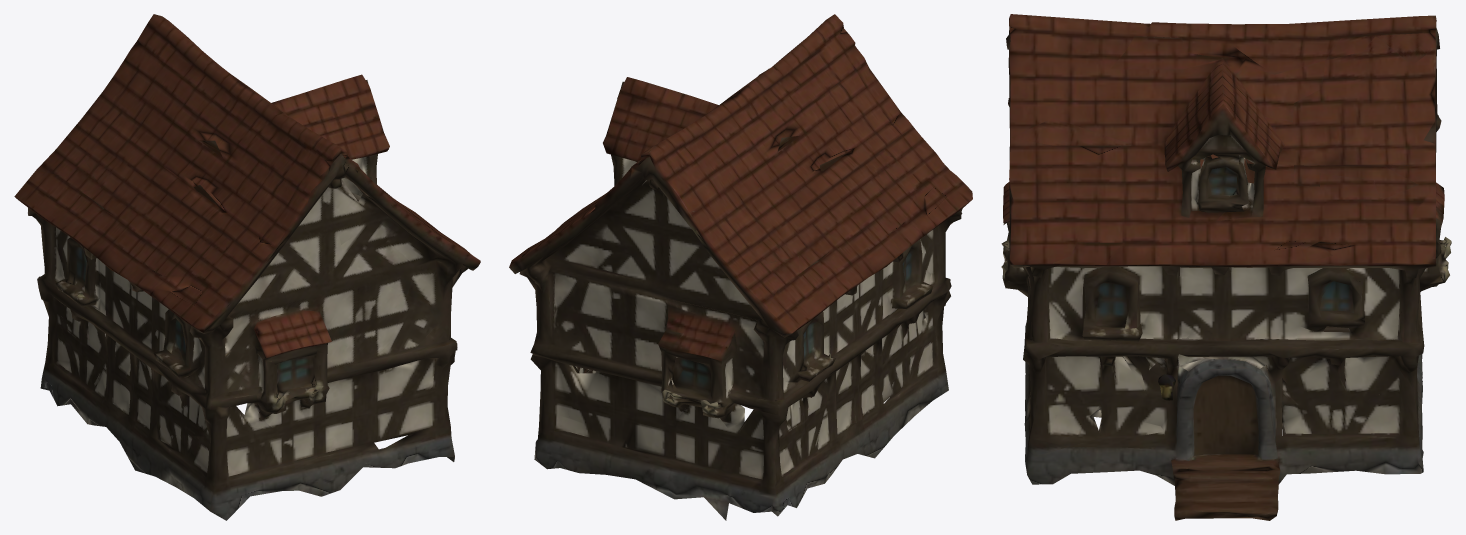
Rendered from house_red_roof.glb.
3 renders of one model, left to right at view 1: azimuth 30°, elevation 25°; view 2: azimuth 150°, elevation 25°; view 3: azimuth 270°, elevation 25°, orthographic. The views are drawn at different scales.
Visible parts, largest first — view 1: geometry_0; view 2: geometry_0; view 3: geometry_0.
Boxes of the visible parts, x1,y1,x2,y2 form: geometry_0: [14, 14, 480, 520]; geometry_0: [509, 14, 972, 520]; geometry_0: [1001, 14, 1451, 520].
Size of the model in its own units: 0.8933 by 0.9833 by 0.973.
1 material, 1 textured.
